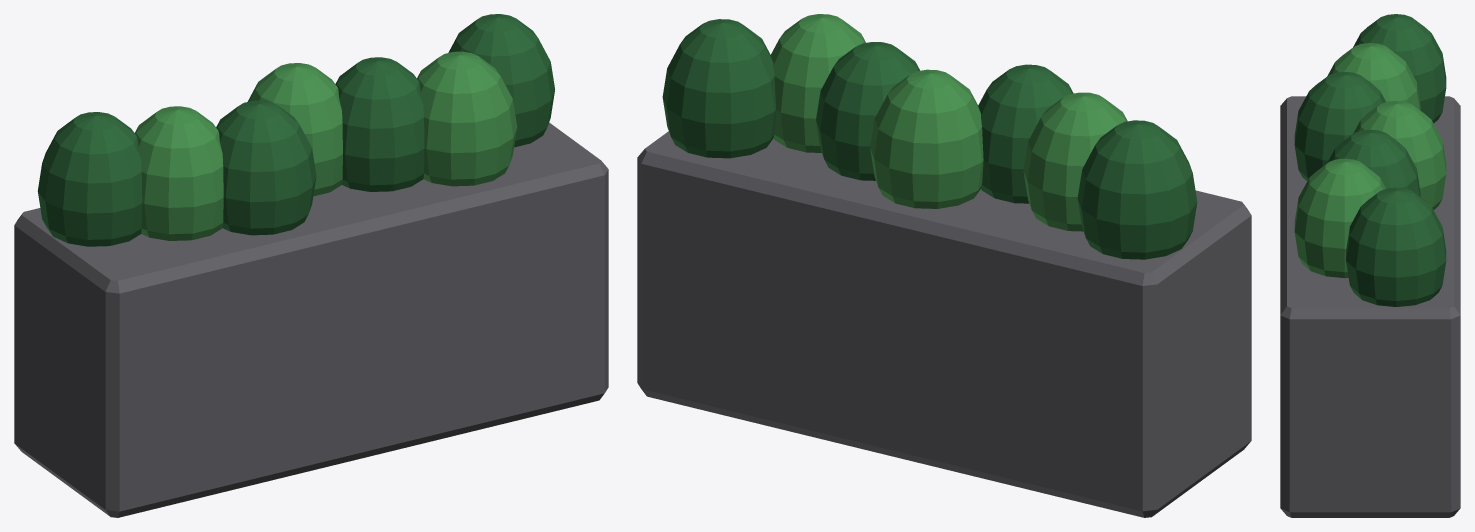
Rendered from planter_box.obj.
3 renders of one model, left to right at view 1: azimuth 30°, elevation 25°; view 2: azimuth 150°, elevation 25°; view 3: azimuth 270°, elevation 25°, orthographic. The views are drawn at different scales.
Visible parts, largest first — view 1: planter_box; view 2: planter_box; view 3: planter_box.
Boxes of the visible parts, <box> form: planter_box: <box>14,14,608,517</box>; planter_box: <box>637,14,1251,517</box>; planter_box: <box>1280,14,1460,517</box>.
Size of the model in its own units: 1 by 0.66 by 0.35.
